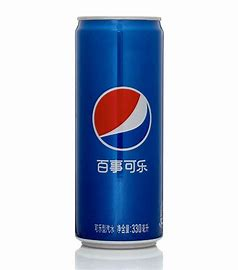Pepsi: (72, 15, 165, 250)
